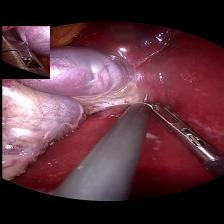Grasper: (151, 101, 221, 175), (0, 26, 49, 79)
Hook: (127, 91, 151, 113)
